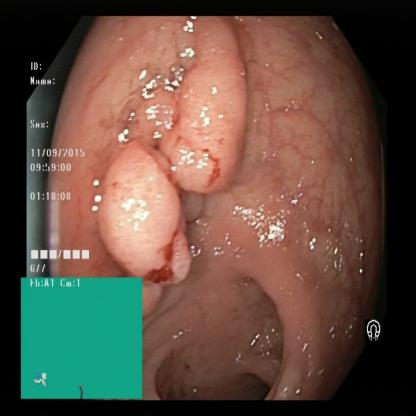Labels: (27, 59, 98, 275), (20, 278, 144, 400), (361, 312, 389, 350)
Polyps: (81, 135, 202, 276), (157, 31, 251, 186)
